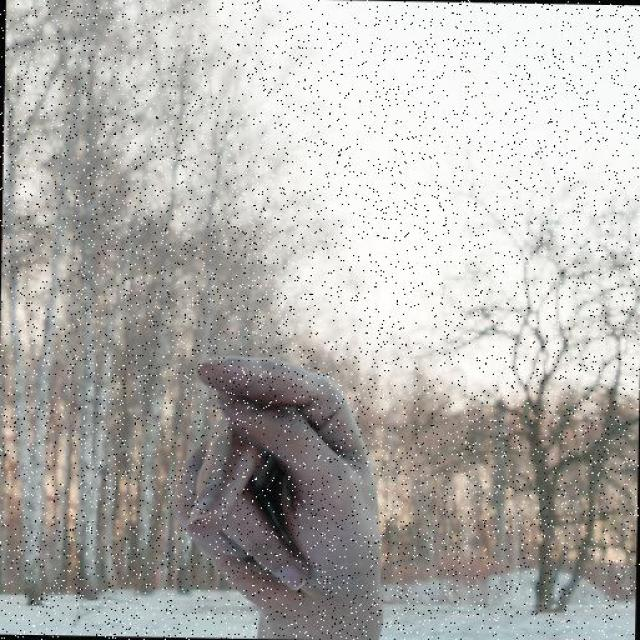P: (157, 335, 422, 631)
